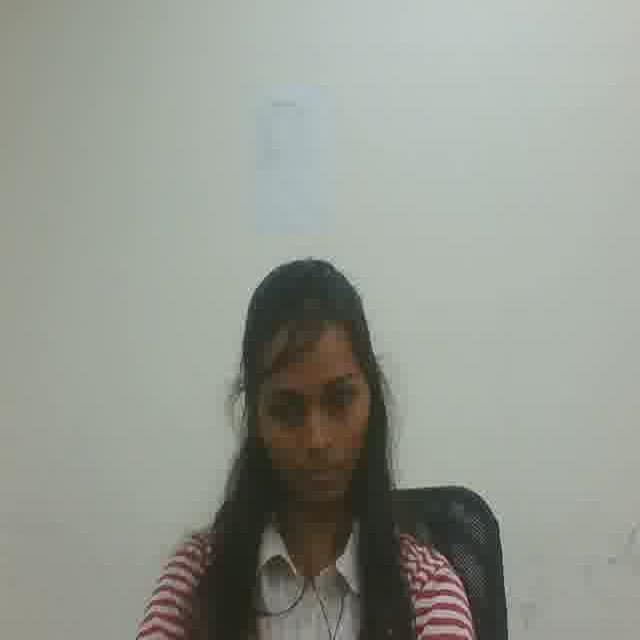Frustration: (260, 339, 364, 509)
